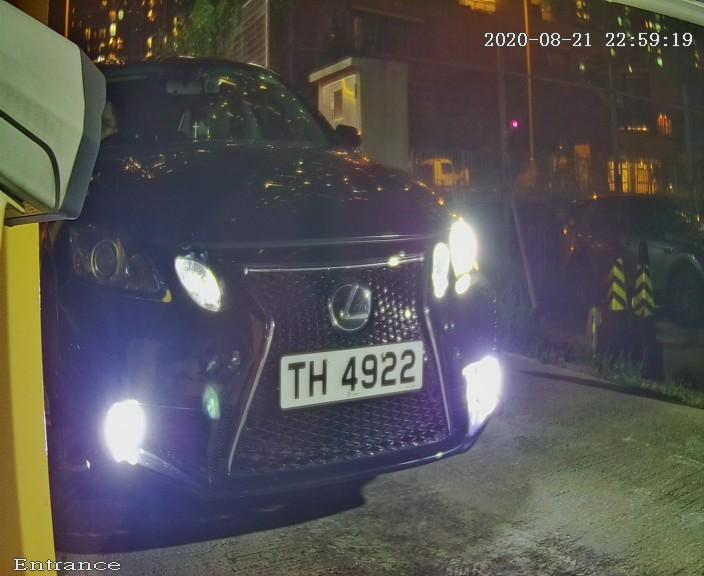Car: (41, 6, 522, 535)
License Plate: (246, 322, 456, 413)
